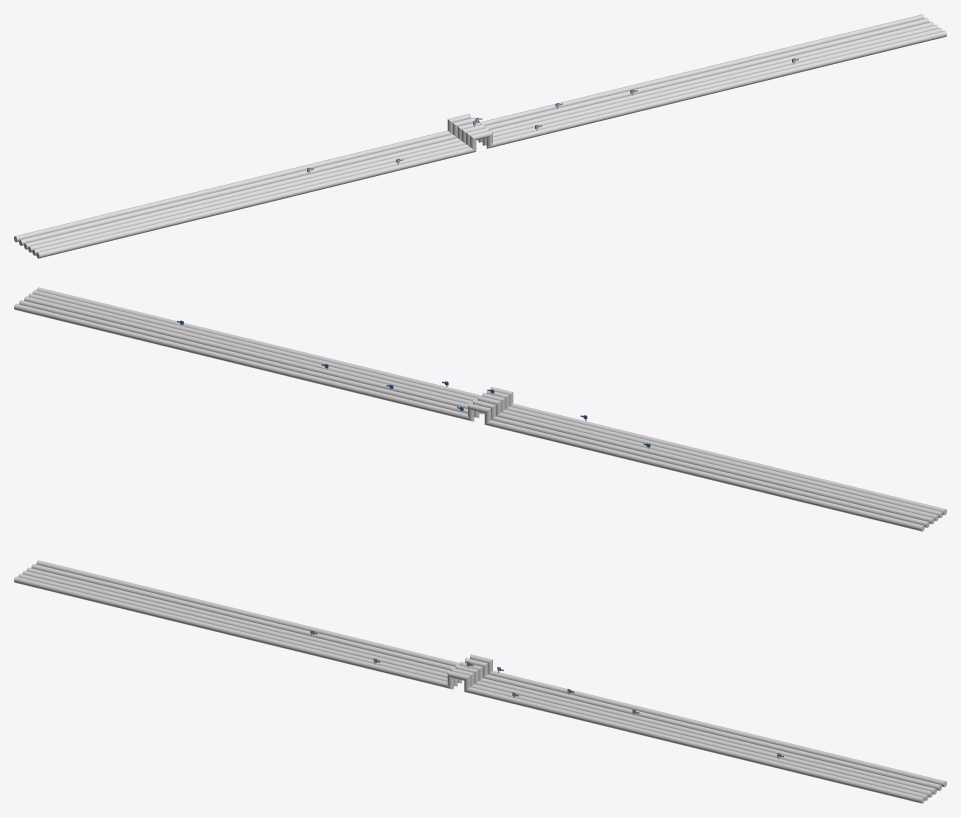
File: 组态模型.obj
3 views of the same model, one above another, from view 1: azimuth 30°, elevation 25°; view 2: azimuth 150°, elevation 25°; view 3: azimuth 330°, elevation 25° (orthographic).
Visible parts, largest first — view 1: Mesh230 Model, Mesh226 Model, Mesh225 Model, Mesh228 Model, Mesh227 Model, Mesh229 Model; view 2: Mesh225 Model, Mesh226 Model, Mesh227 Model, Mesh229 Model, Mesh228 Model, Mesh230 Model; view 3: Mesh230 Model, Mesh226 Model, Mesh225 Model, Mesh228 Model, Mesh227 Model, Mesh229 Model.
Boxes of the visible parts, bbox=[...] form: Mesh230 Model: bbox=[36, 30, 946, 258]; Mesh226 Model: bbox=[19, 18, 929, 245]; Mesh225 Model: bbox=[14, 14, 924, 242]; Mesh228 Model: bbox=[28, 24, 938, 252]; Mesh227 Model: bbox=[24, 21, 934, 249]; Mesh229 Model: bbox=[32, 28, 942, 255]; Mesh225 Model: bbox=[14, 303, 924, 531]; Mesh226 Model: bbox=[19, 300, 929, 527]; Mesh227 Model: bbox=[24, 296, 934, 524]; Mesh229 Model: bbox=[32, 290, 942, 517]; Mesh228 Model: bbox=[28, 293, 938, 521]; Mesh230 Model: bbox=[36, 287, 946, 515]; Mesh230 Model: bbox=[14, 576, 924, 803]; Mesh226 Model: bbox=[31, 564, 941, 790]; Mesh225 Model: bbox=[36, 560, 946, 787]; Mesh228 Model: bbox=[22, 570, 932, 797]; Mesh227 Model: bbox=[26, 567, 936, 794]; Mesh229 Model: bbox=[18, 573, 928, 800].
Bounding box in the file's own units: 199 × 4.75 × 9.68.
Materials: 6 (1 with a texture image).
